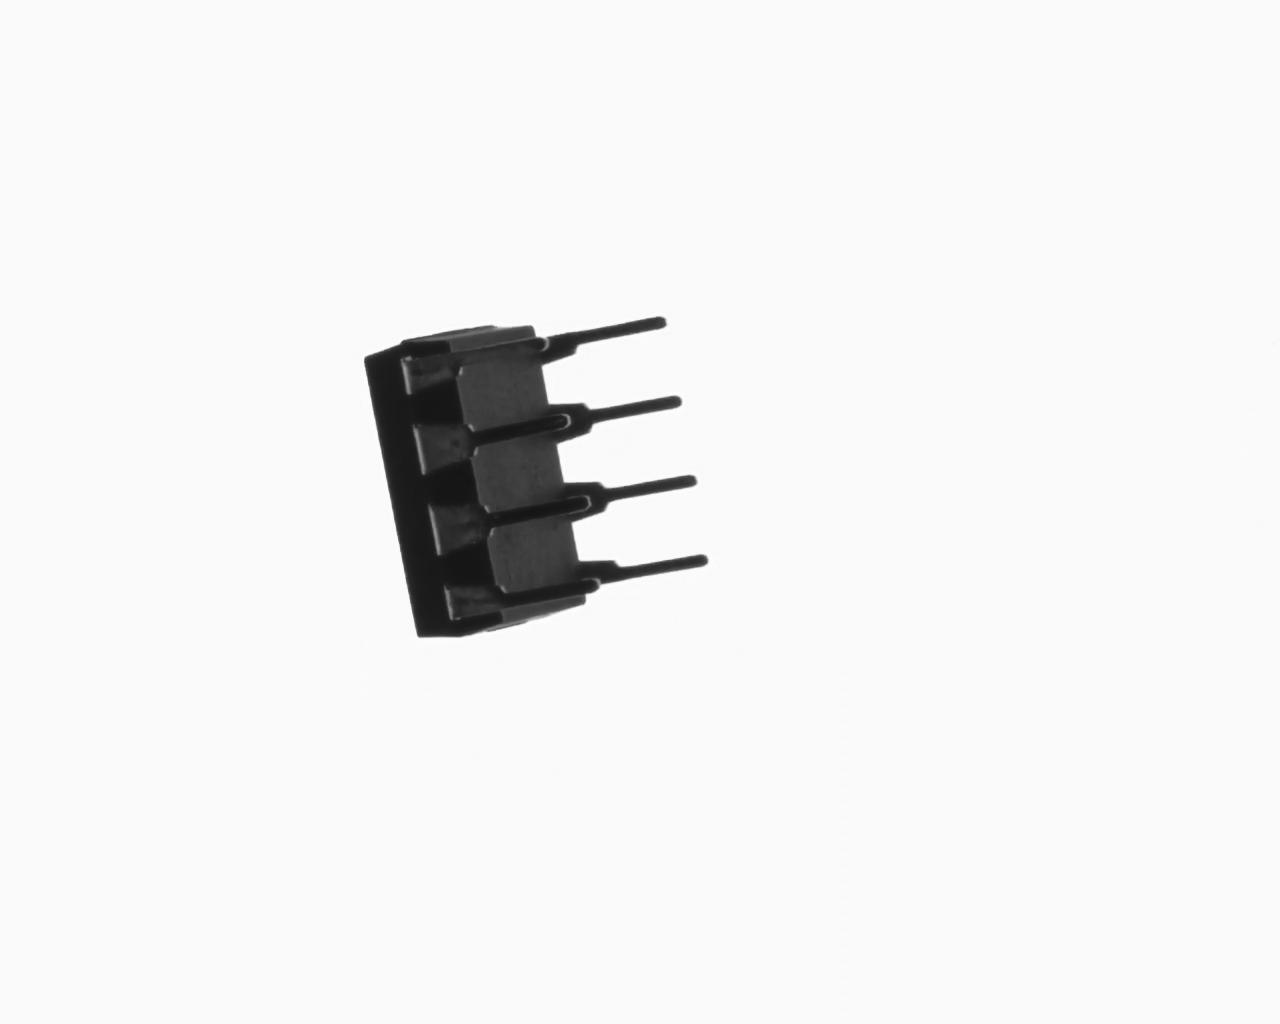Leg: (560, 394, 714, 440), (464, 488, 596, 532), (567, 470, 699, 512), (411, 338, 559, 373), (440, 413, 566, 447), (461, 583, 606, 612), (584, 553, 728, 582), (541, 318, 678, 339)
